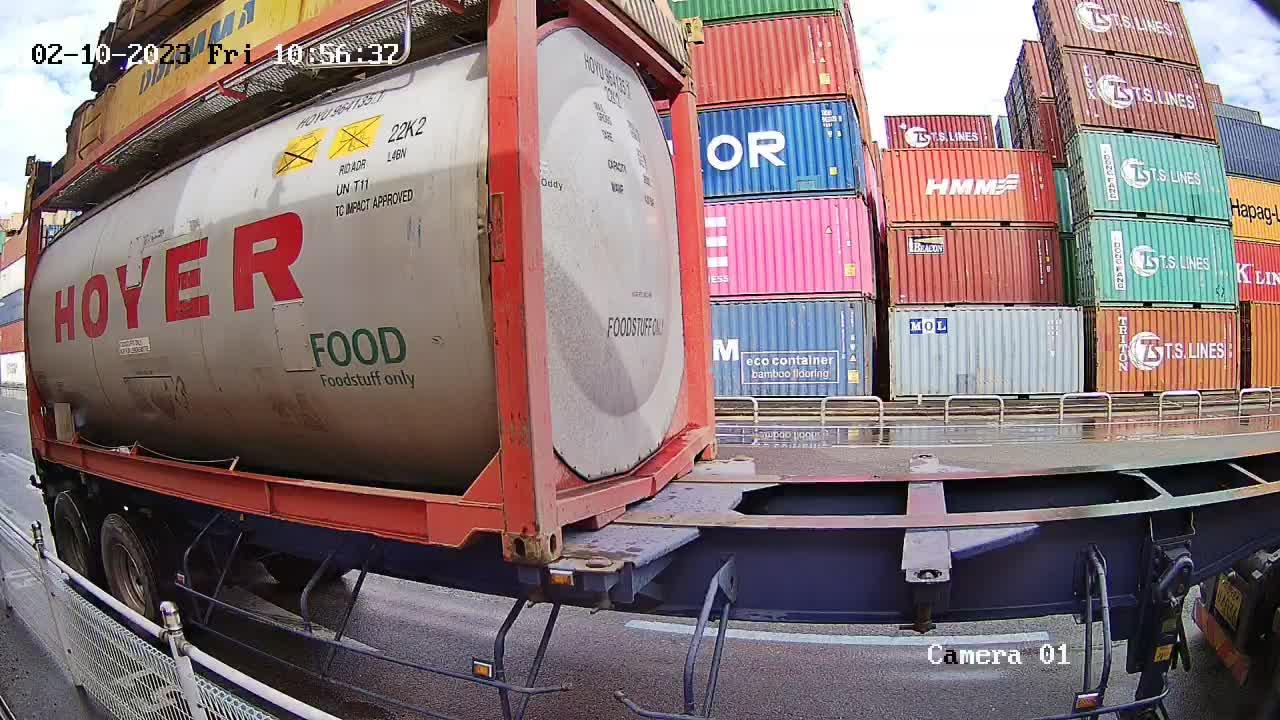Chassis: (580, 458, 756, 572)
Cone: (583, 559, 624, 618), (513, 564, 549, 609)
Hole_L: (537, 494, 581, 564)
Hole_R: (477, 506, 539, 566), (692, 422, 718, 467)
Tire: (100, 515, 160, 635), (53, 493, 94, 591)
